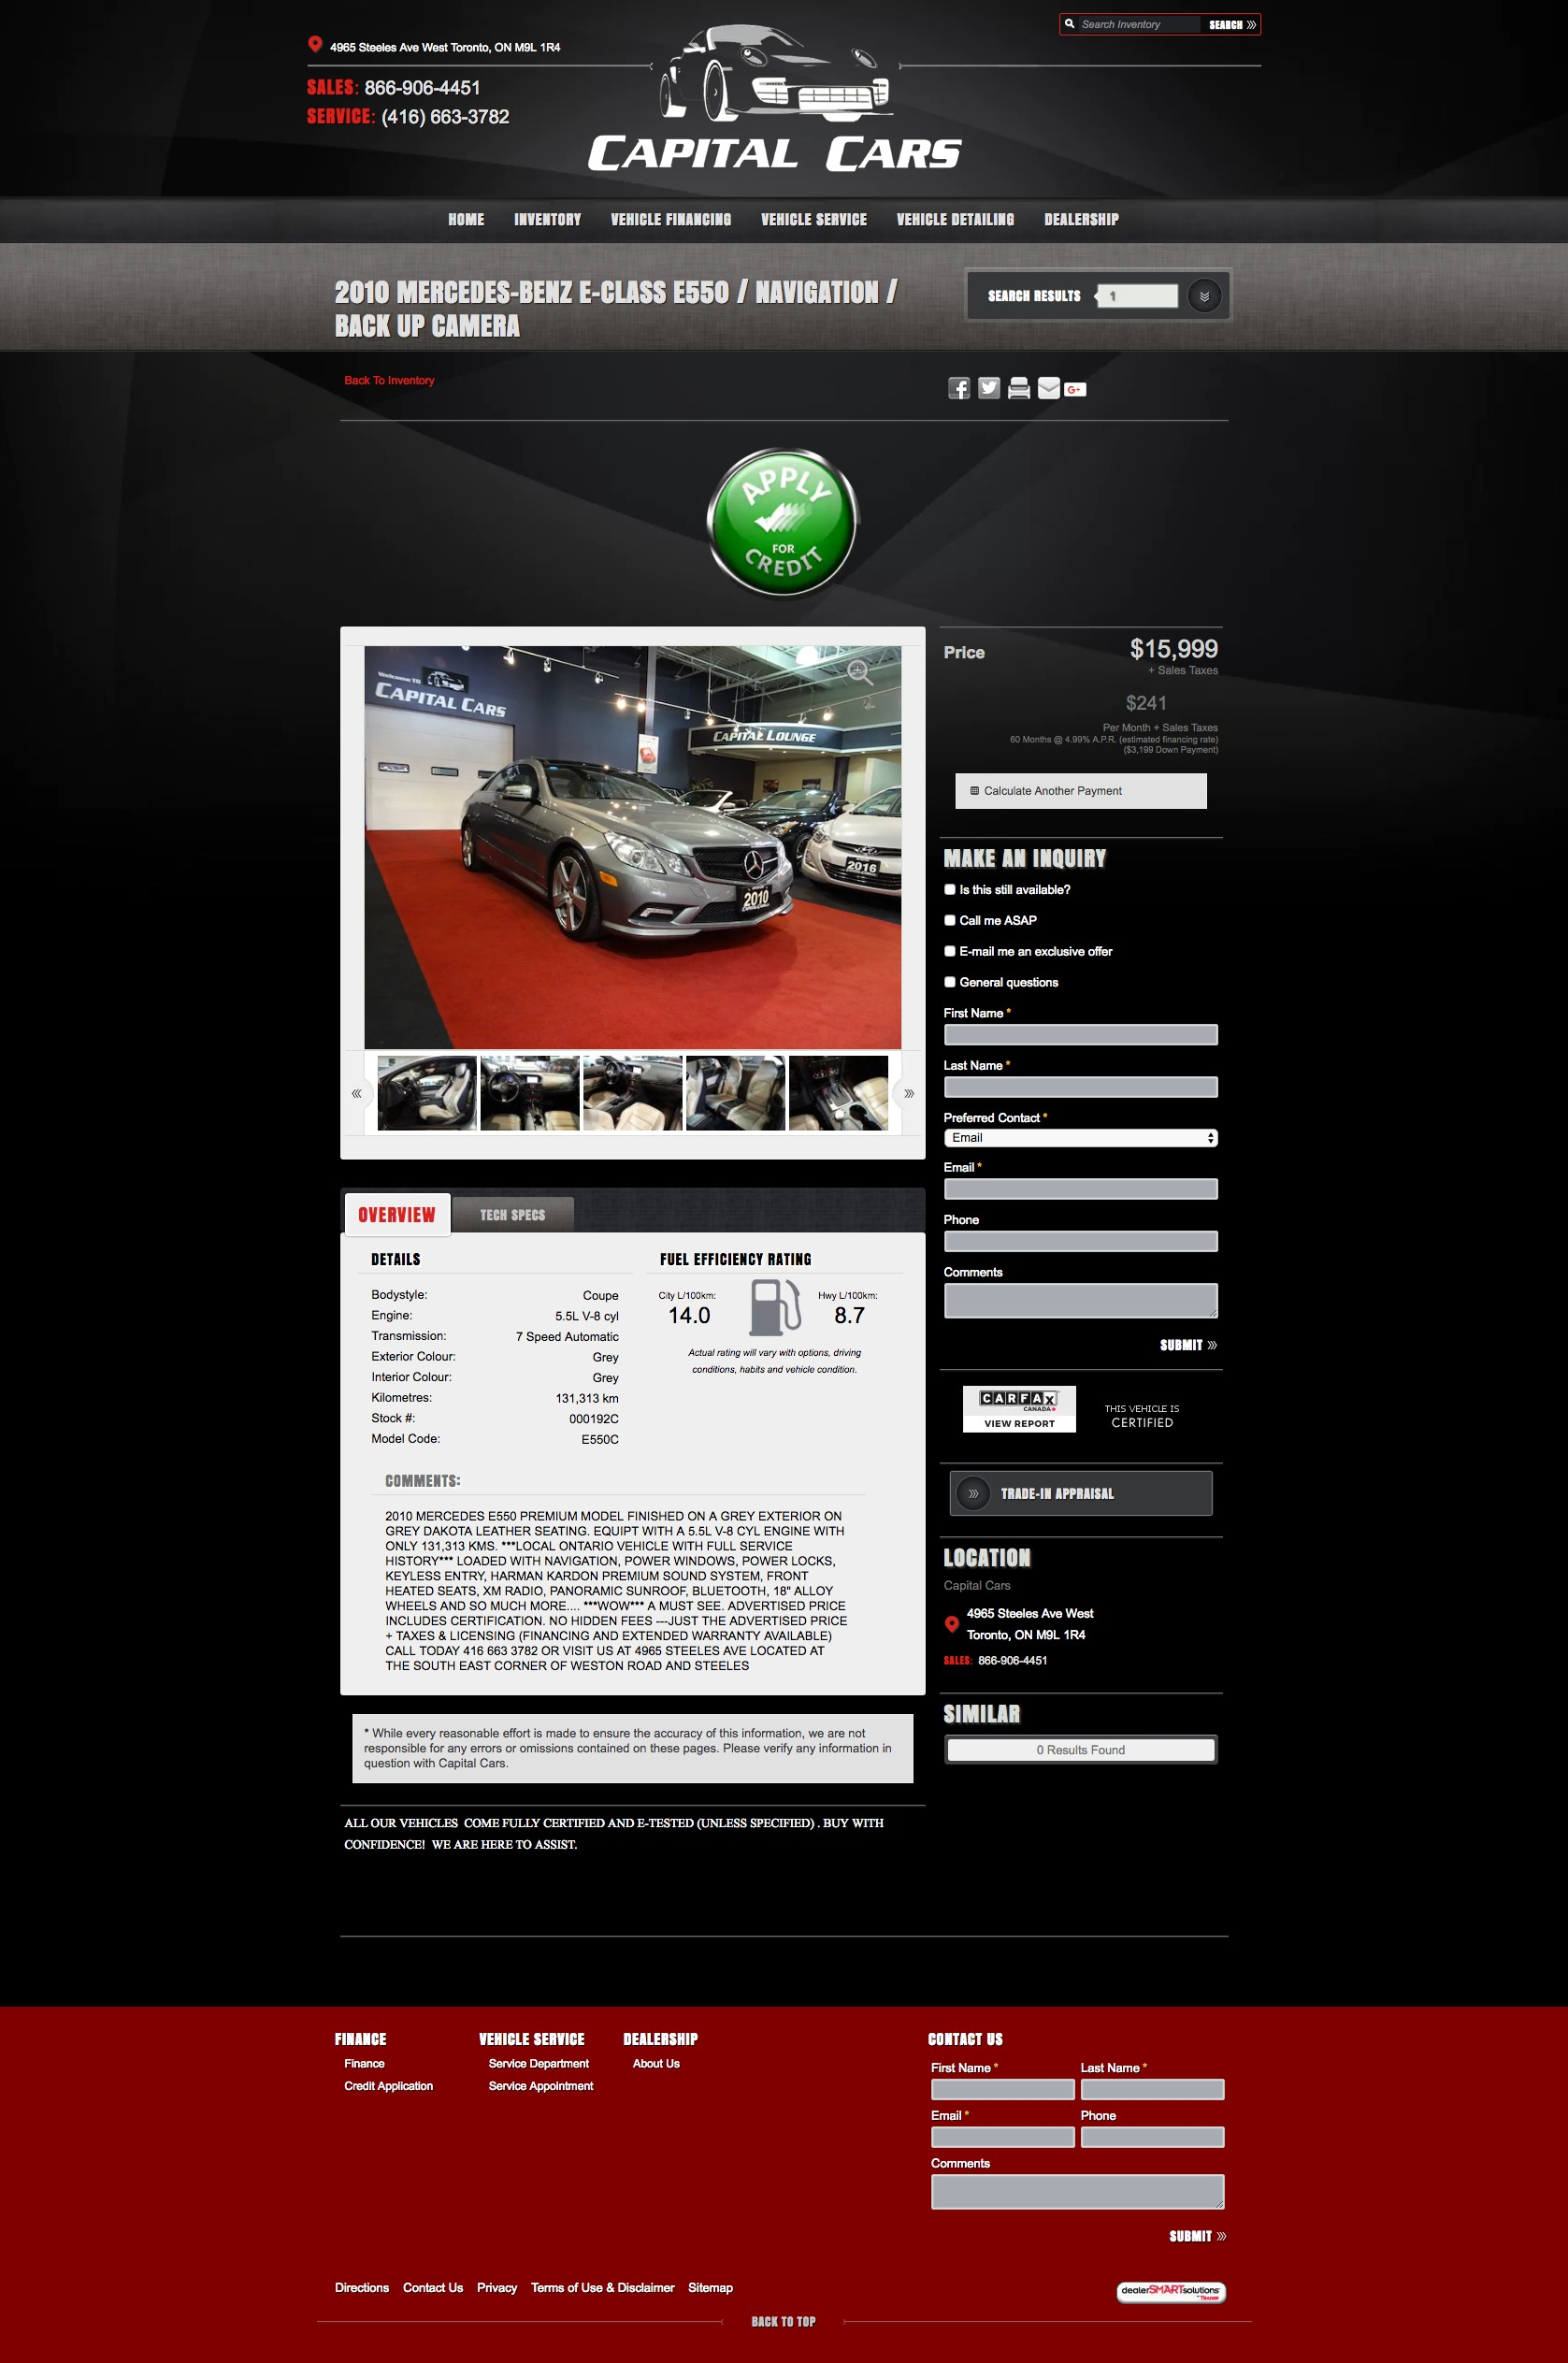car: (901, 1087, 917, 1104)
